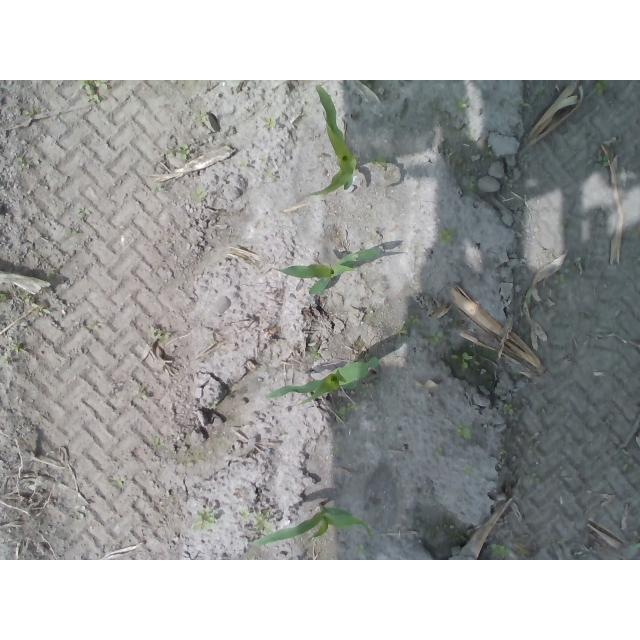Maize: (268, 247, 385, 297), (264, 356, 381, 405), (312, 83, 360, 200), (255, 503, 374, 546)
Weeds: (233, 506, 272, 531), (0, 343, 22, 368), (77, 81, 99, 104), (145, 326, 168, 342), (451, 351, 471, 369), (194, 512, 214, 528), (335, 404, 358, 417), (491, 542, 509, 558), (174, 142, 190, 159), (591, 81, 609, 96), (437, 228, 453, 243), (456, 426, 472, 440), (13, 158, 30, 171), (367, 154, 385, 166), (190, 191, 209, 202), (194, 111, 207, 125), (265, 116, 276, 129), (599, 154, 610, 167), (432, 331, 445, 342), (410, 313, 422, 323), (502, 403, 514, 413)
